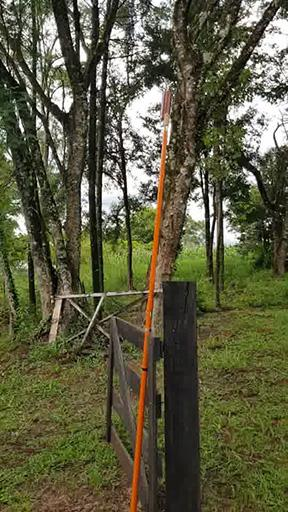Detector_Tensao_Contato: (158, 77, 174, 121)
Vara_Manobra: (130, 120, 170, 512)
